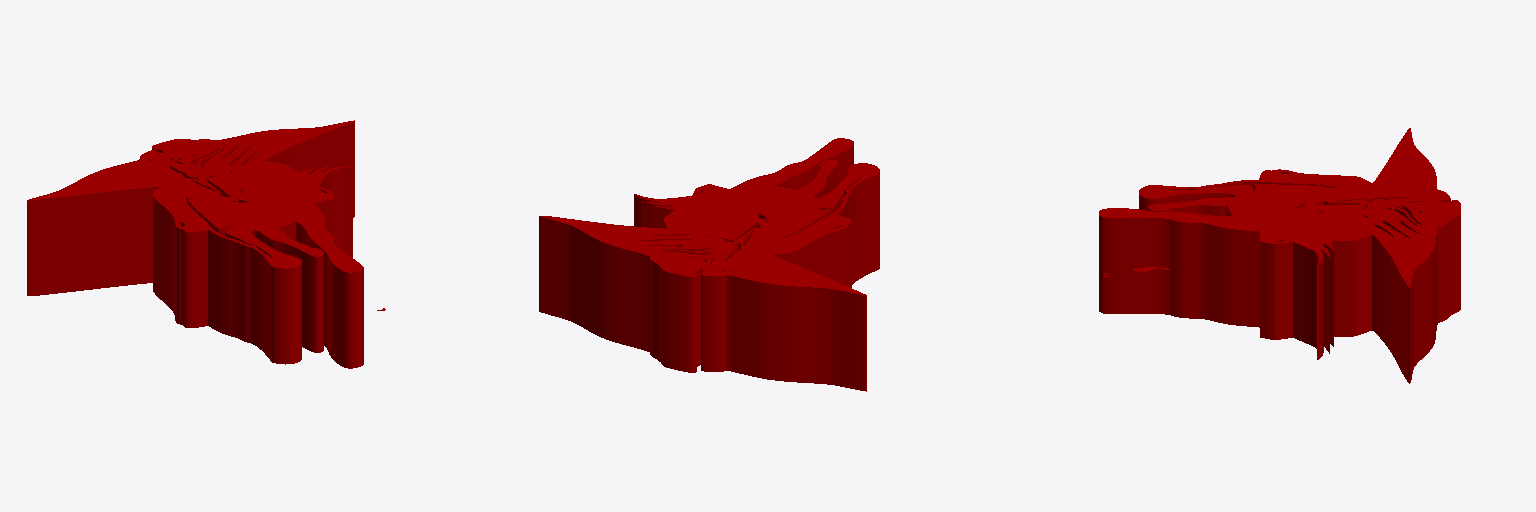
Rendered from maskedrider.obj.
The picture shows the model from 3 angles: view 1: azimuth 30°, elevation 25°; view 2: azimuth 150°, elevation 25°; view 3: azimuth 270°, elevation 25°; orthographic projection.
Visible parts, largest first — view 1: Curve; view 2: Curve; view 3: Curve.
Boxes of the visible parts, box(x1,y1,x2,y2) form: Curve: box(27, 120, 363, 368); Curve: box(539, 138, 879, 391); Curve: box(1099, 128, 1460, 383).
Bounding box in the file's own units: 1.5 × 0.42 × 1.44.